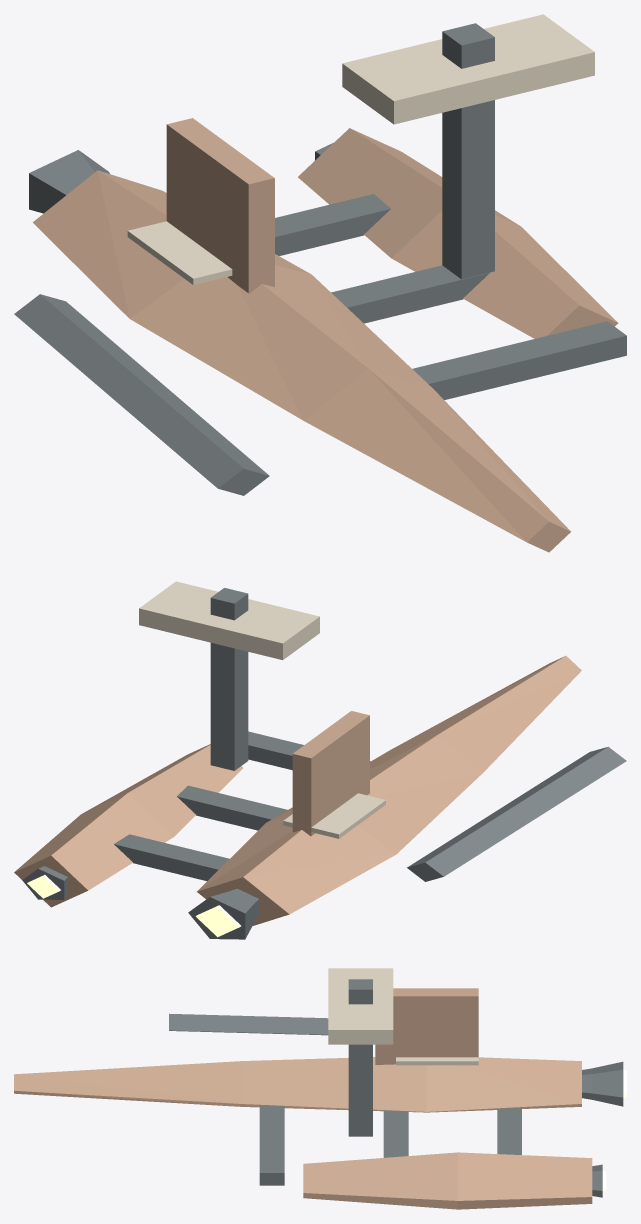
3 renders of one model, top to bottom at view 1: azimuth 30°, elevation 25°; view 2: azimuth 150°, elevation 25°; view 3: azimuth 270°, elevation 25°, orthographic. The views are drawn at different scales.
Bounding box in the file's own units: 9.54 × 5.58 × 15.1.
